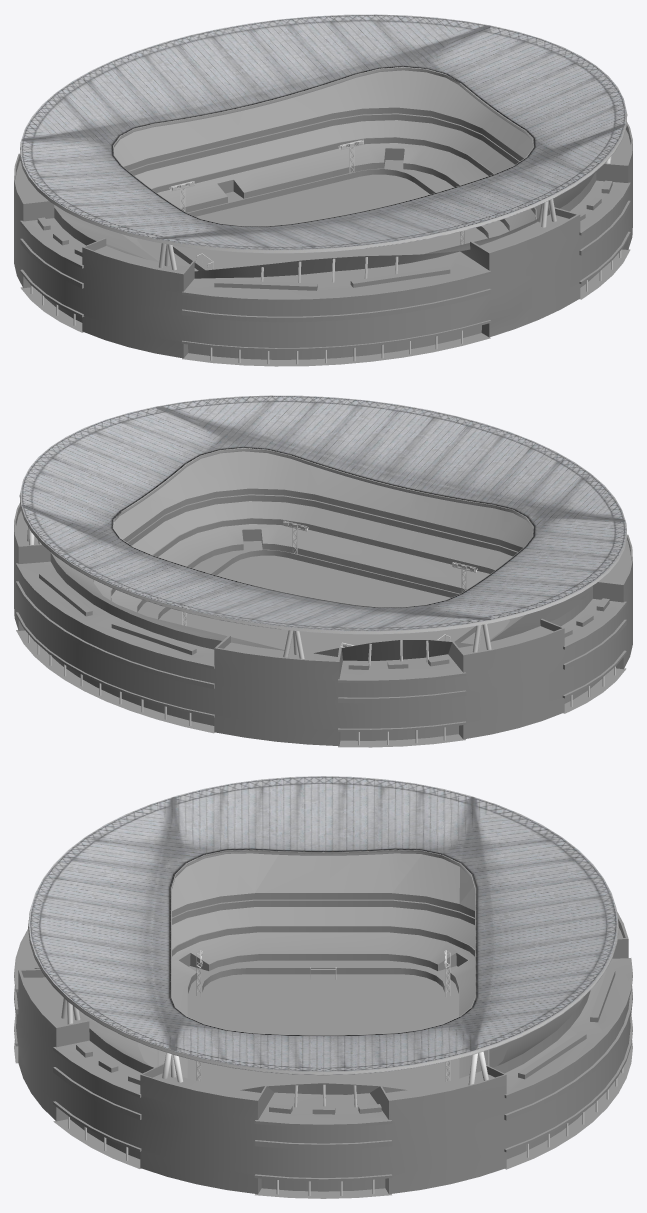
Rendered from stadium3.obj.
3 views of the same model, one above another, from view 1: azimuth 30°, elevation 25°; view 2: azimuth 150°, elevation 25°; view 3: azimuth 270°, elevation 25° (orthographic). The views are drawn at different scales.
Visible parts, largest first — view 1: nmodel_10_27_main.001, nmodel_10_27_roof, nmodel_10_27_pipes4, nmodel_10_27_lights; view 2: nmodel_10_27_main.001, nmodel_10_27_roof, nmodel_10_27_pipes4, nmodel_10_27_lights; view 3: nmodel_10_27_main.001, nmodel_10_27_roof, nmodel_10_27_pipes4, nmodel_10_27_lights.
Boxes of the visible parts, x1,y1,x2,y2 form: nmodel_10_27_main.001: (14,70,632,366); nmodel_10_27_roof: (19,14,627,253); nmodel_10_27_pipes4: (30,156,621,364); nmodel_10_27_lights: (169,139,464,244); nmodel_10_27_main.001: (14,451,632,747); nmodel_10_27_roof: (19,395,627,634); nmodel_10_27_pipes4: (27,527,615,745); nmodel_10_27_lights: (182,520,477,647); nmodel_10_27_main.001: (14,853,632,1198); nmodel_10_27_roof: (28,776,618,1075); nmodel_10_27_pipes4: (61,998,623,1195); nmodel_10_27_lights: (196,950,450,1081).
Bounding box in the file's own units: 238 × 45.54 × 206.
4 materials, 2 textured.
